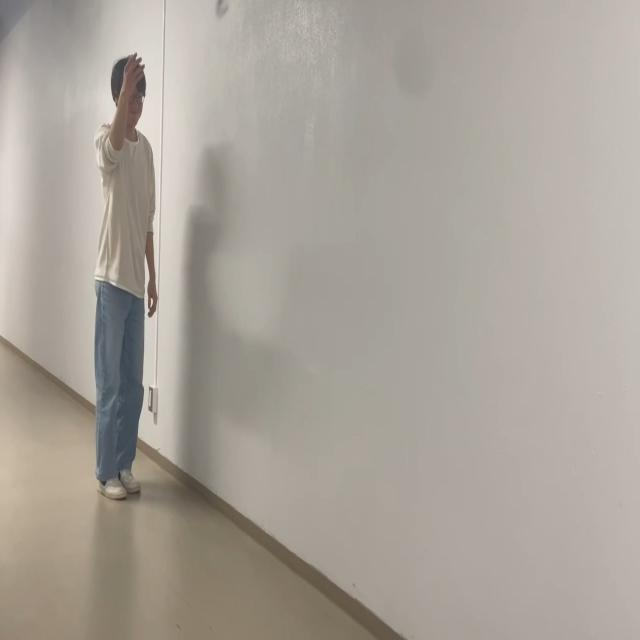paper: (213, 0, 229, 21)
